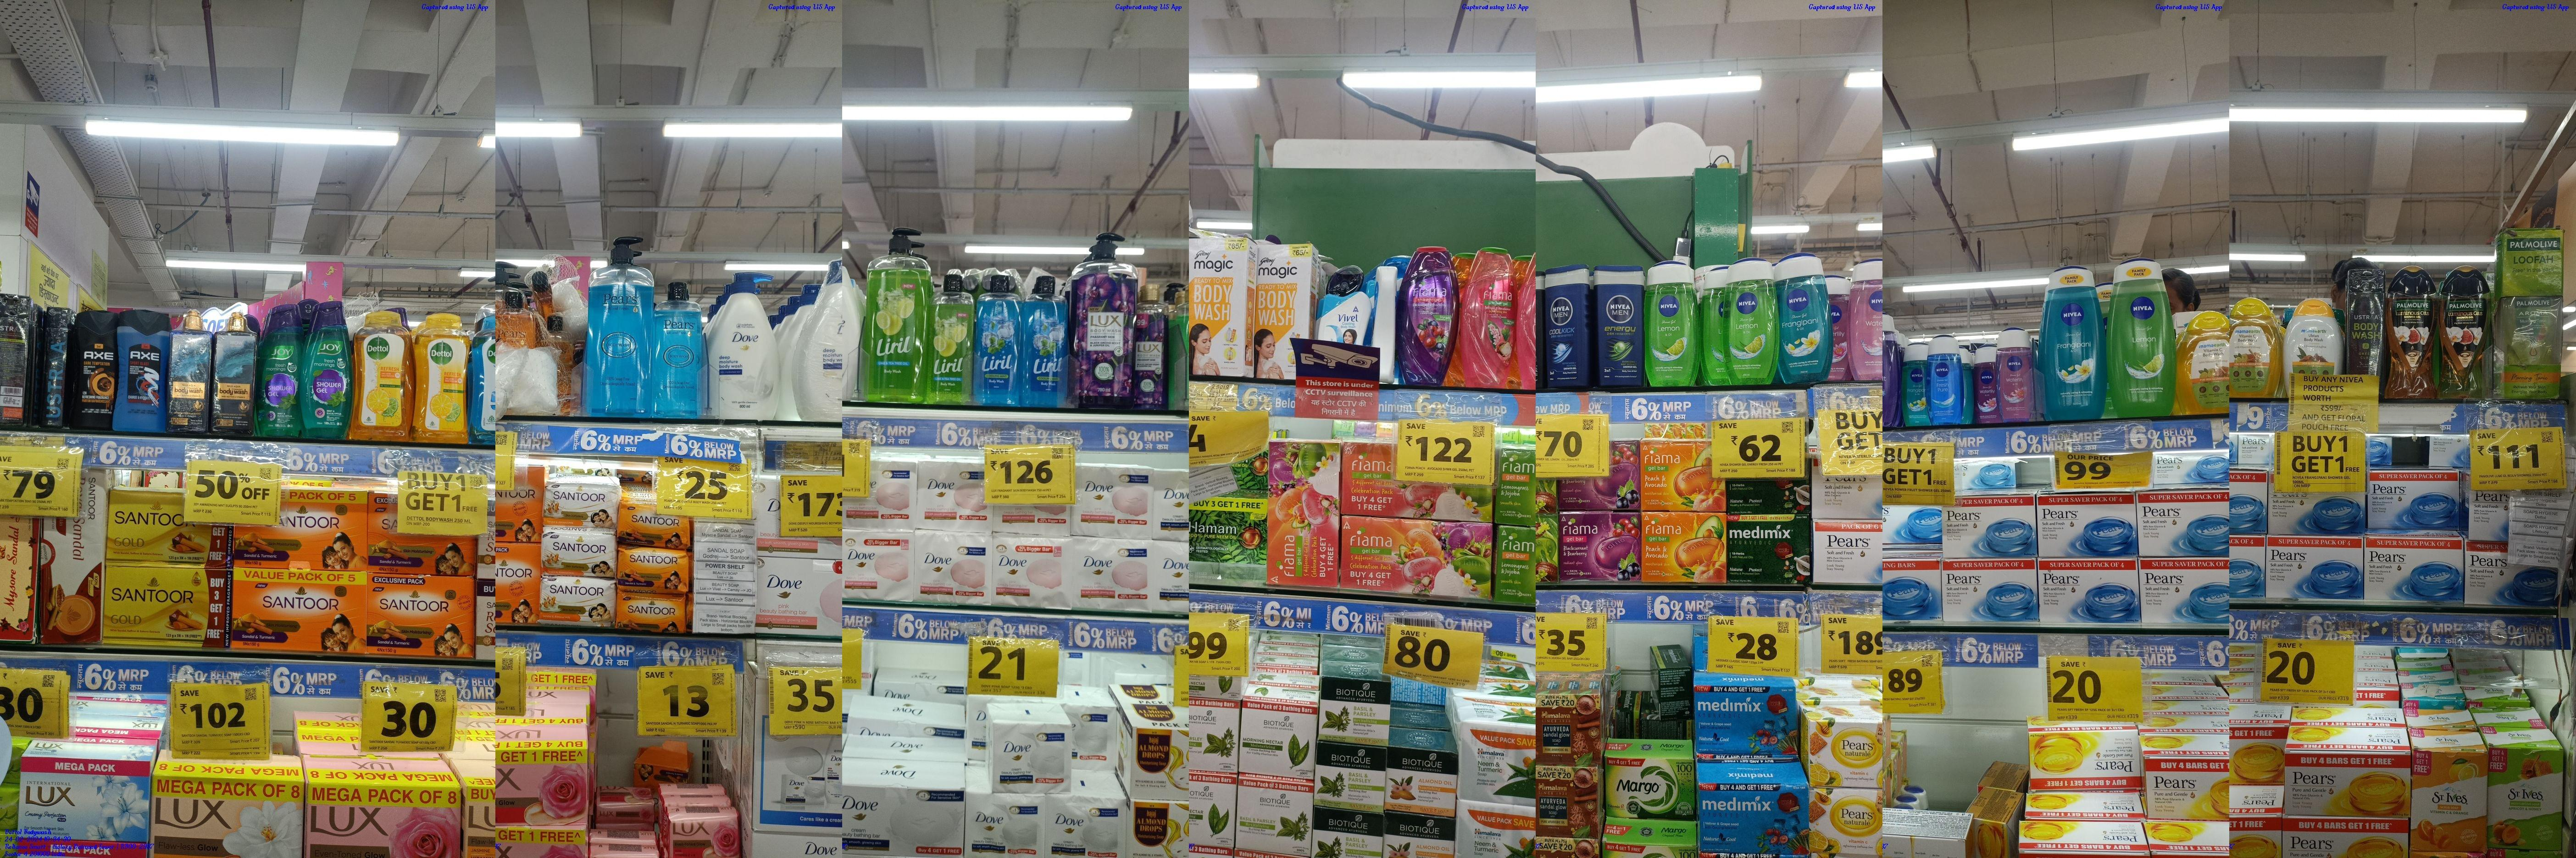Dettol_Bodywash_Refresh: (414, 314, 470, 442), (358, 307, 409, 439)
Fiama_Shower_Gel_Patchouli_and_Macadamia_250ML: (1462, 245, 1513, 390)
Joy_Shower_Gel_Mint_and_Eucalyptus_250ML: (302, 301, 353, 437), (260, 299, 301, 437)
Liril_Cooling_Mint_Body_Wash_250ML: (1022, 274, 1068, 411), (977, 273, 1019, 404)
Liril_Lime_and_Tea_Tree_Oil_Body_Wash_250ML: (928, 266, 974, 404)
Lux_Black_Orchid_Scent_and_Juniper_Oil_Body_Wash_245ML: (1138, 283, 1171, 411)
Nivea_Shower_Gel_Frangipani_and_Oil_250ML: (2039, 265, 2106, 421), (1779, 251, 1830, 380)
Nivea_Shower_Gel_Lemon_and_Oil_250ML: (2111, 260, 2177, 417), (1723, 260, 1776, 393), (1648, 255, 1699, 390)
Palmolive_Luminous_Oils_With_White_Orchid_Shower_Gel_250ML: (2387, 258, 2435, 399), (2438, 268, 2486, 404)
Pears_Pure_Glycerin_and_Mint_Extracts_Body_Wash_250ML: (652, 281, 701, 419)
